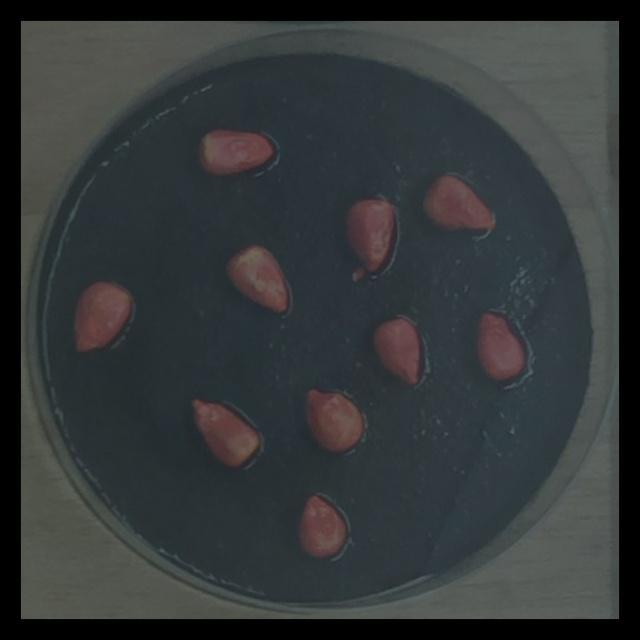Zea mays: (186, 390, 267, 476), (414, 165, 501, 241), (219, 237, 294, 320), (65, 277, 137, 362), (297, 380, 371, 461), (336, 191, 400, 284), (191, 123, 280, 184), (469, 304, 530, 389), (363, 310, 426, 392), (290, 486, 355, 565)
